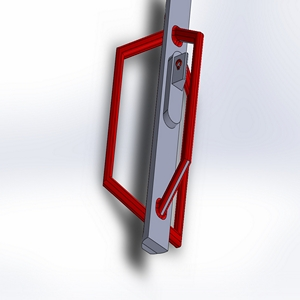submarine: (70, 1, 232, 264)
